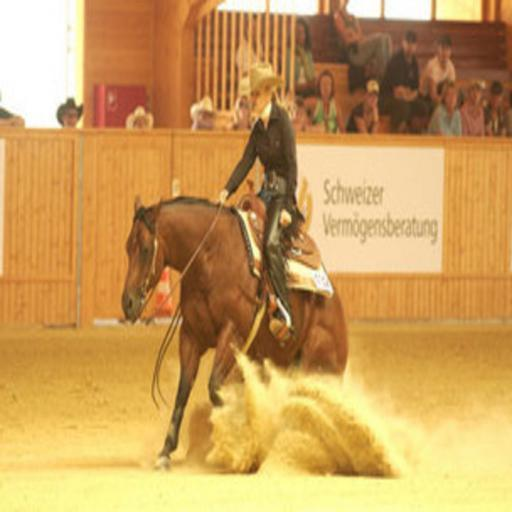horse: (118, 194, 349, 469)
